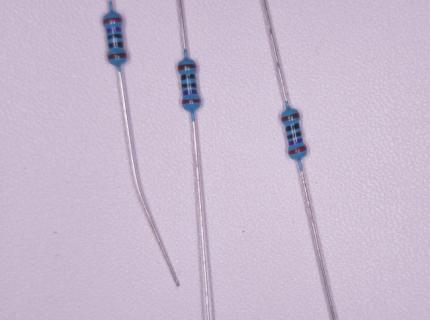Black band: (285, 123, 300, 132), (288, 131, 301, 140), (181, 74, 195, 81), (107, 34, 123, 40), (182, 83, 197, 89), (109, 42, 123, 48)
Brown band: (281, 113, 299, 122), (178, 64, 196, 71), (109, 53, 126, 60)
Red band: (289, 145, 307, 154), (104, 18, 122, 25), (182, 99, 200, 104)
Violet band: (289, 138, 302, 146), (184, 90, 197, 96), (106, 28, 121, 33)
